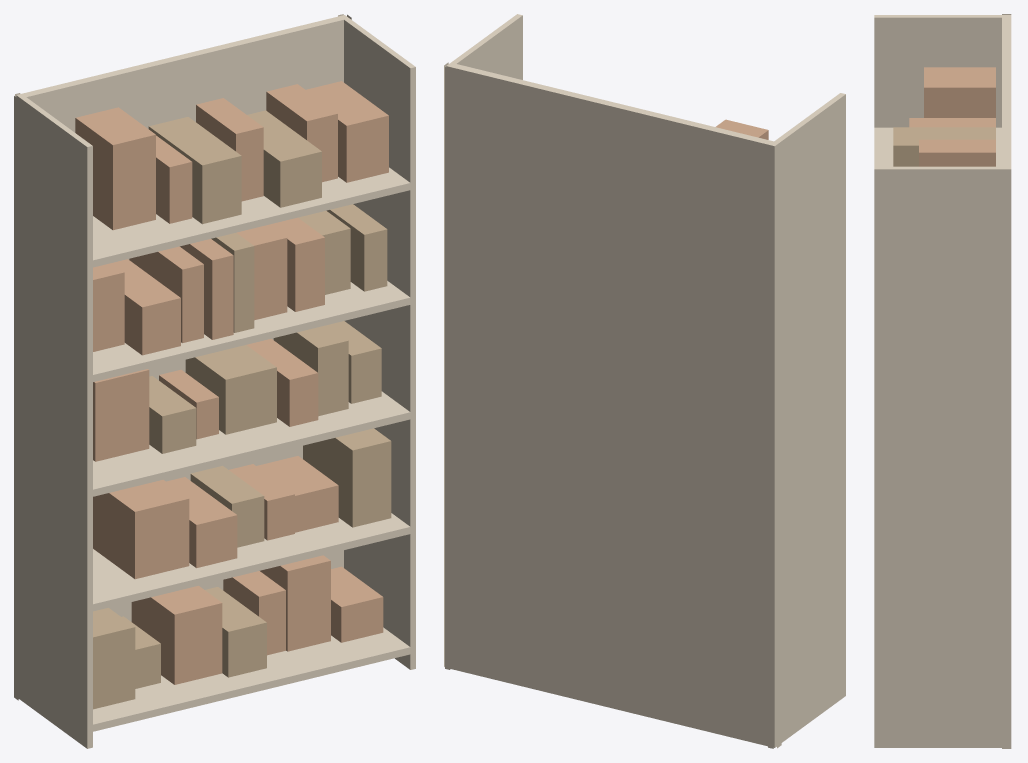
The model's file is Wall_Shelf.fbx.
3 views of the same model, side by side, from view 1: azimuth 30°, elevation 25°; view 2: azimuth 150°, elevation 25°; view 3: azimuth 270°, elevation 25° (orthographic). The views are drawn at different scales.
Visible parts, largest first — view 1: Wall_Shelf; view 2: Wall_Shelf; view 3: Wall_Shelf.
Part boxes in pixels (left/top/right/bottom): Wall_Shelf: left=14, top=14, right=415, bottom=748; Wall_Shelf: left=444, top=14, right=845, bottom=748; Wall_Shelf: left=874, top=14, right=1011, bottom=748.
Bounding box in the file's own units: 1.22 × 2.1 × 0.458.
